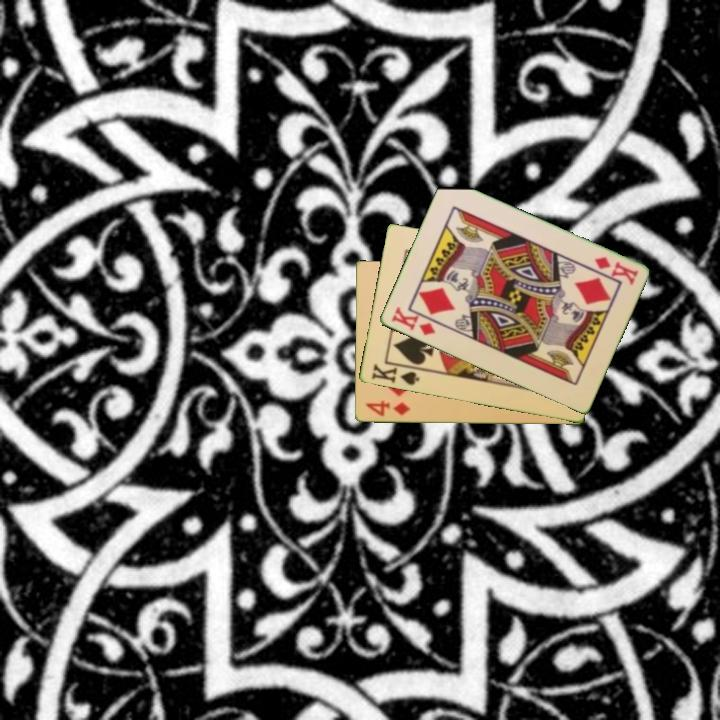4d: (362, 398, 413, 419)
Kd: (387, 303, 438, 338), (590, 253, 641, 288)
Ks: (368, 360, 423, 388)
